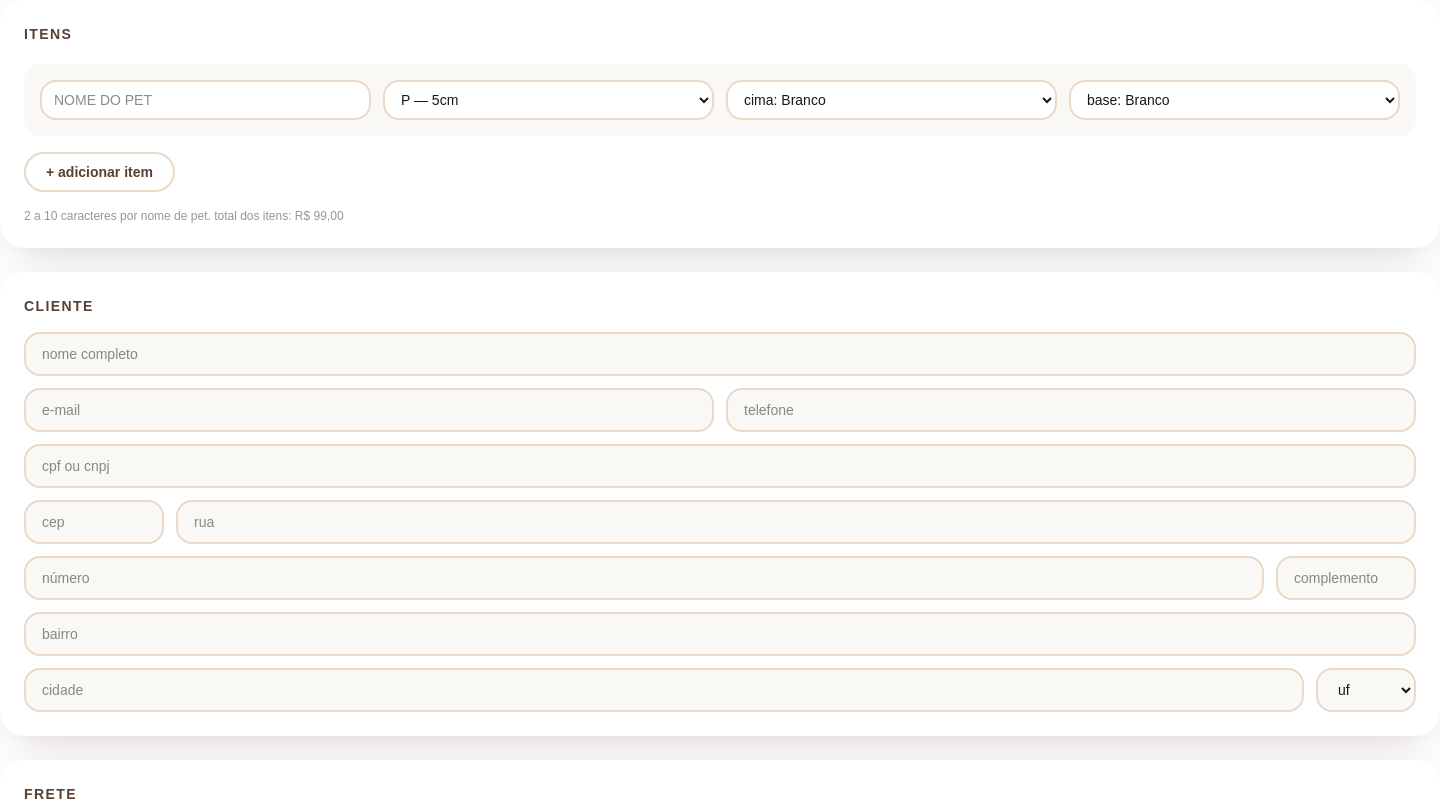
Test: NovoPedidoForm — itens › adicionar item soma o total e permite remover
Click the button "+ adicionar item".
click(100, 172)  # box x1=24 y1=152 x2=175 y2=192
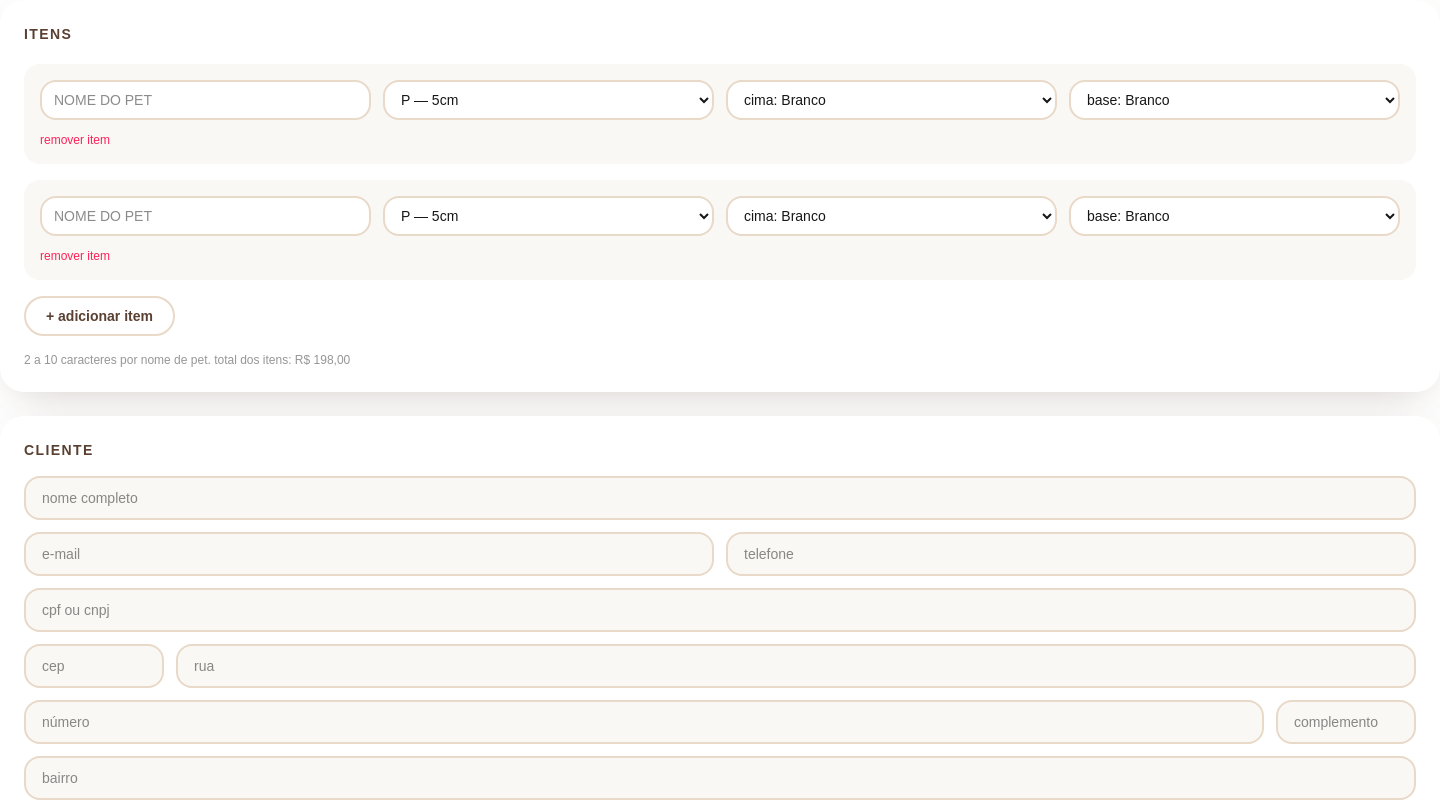
Now the text "total dos itens: R$ 198,00" is shown, box x1=24 y1=353 x2=350 y2=367
Click the 1st button "remover item".
click(75, 140)  # box x1=40 y1=132 x2=1400 y2=148
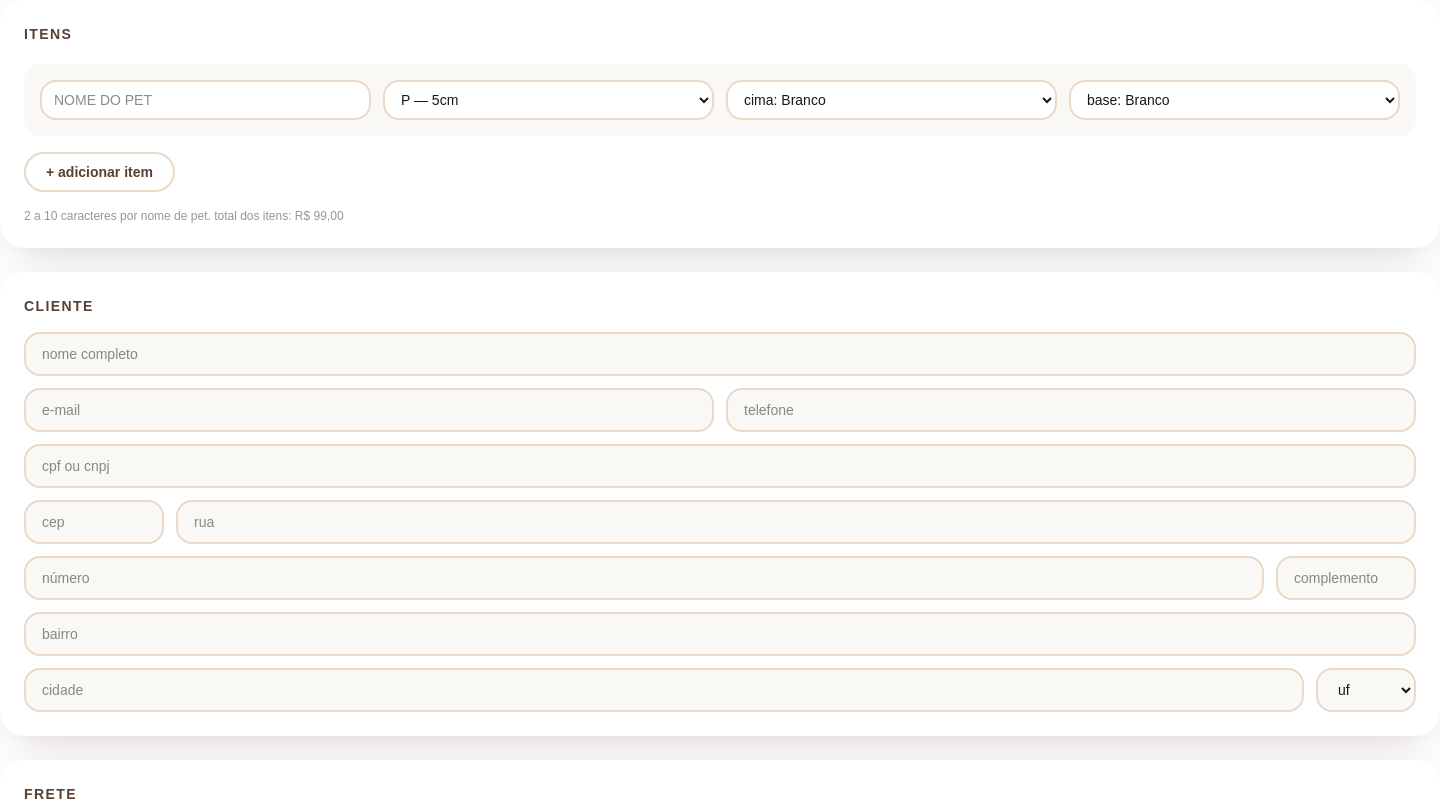
Now the text "2 a 10 caracteres por nome de pet. total dos itens: R$ 99,00" is shown, box x1=24 y1=209 x2=344 y2=223
Now the button "remover item" is gone
